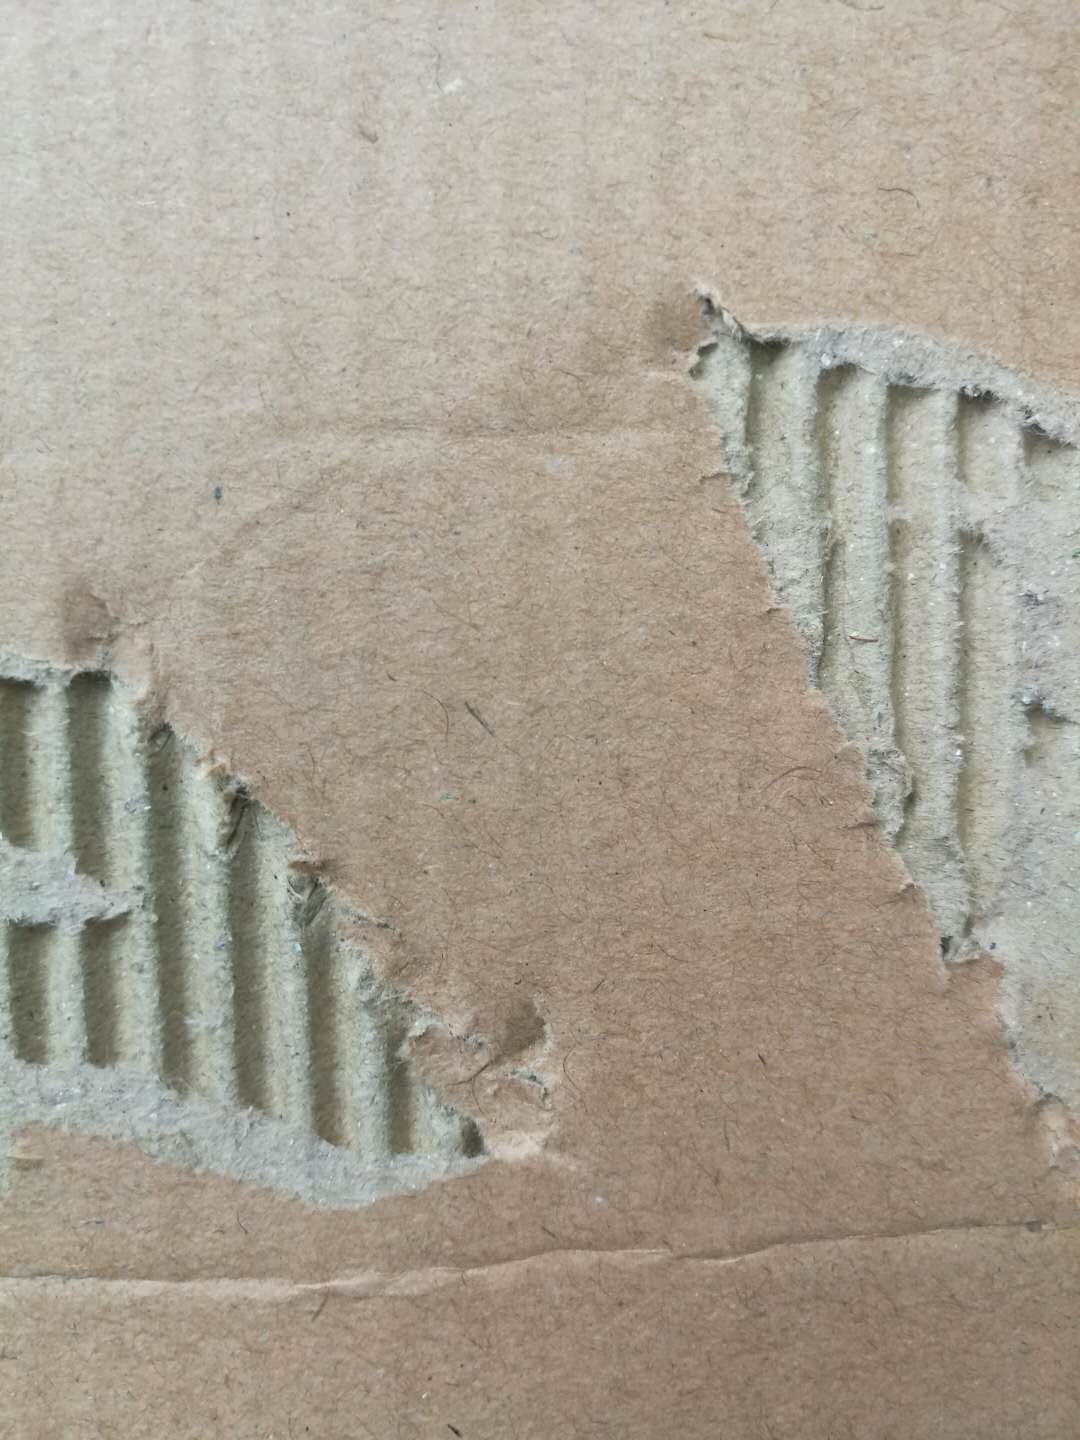defect: (604, 245, 1080, 1247), (2, 537, 640, 1238), (1, 1181, 1080, 1347)
